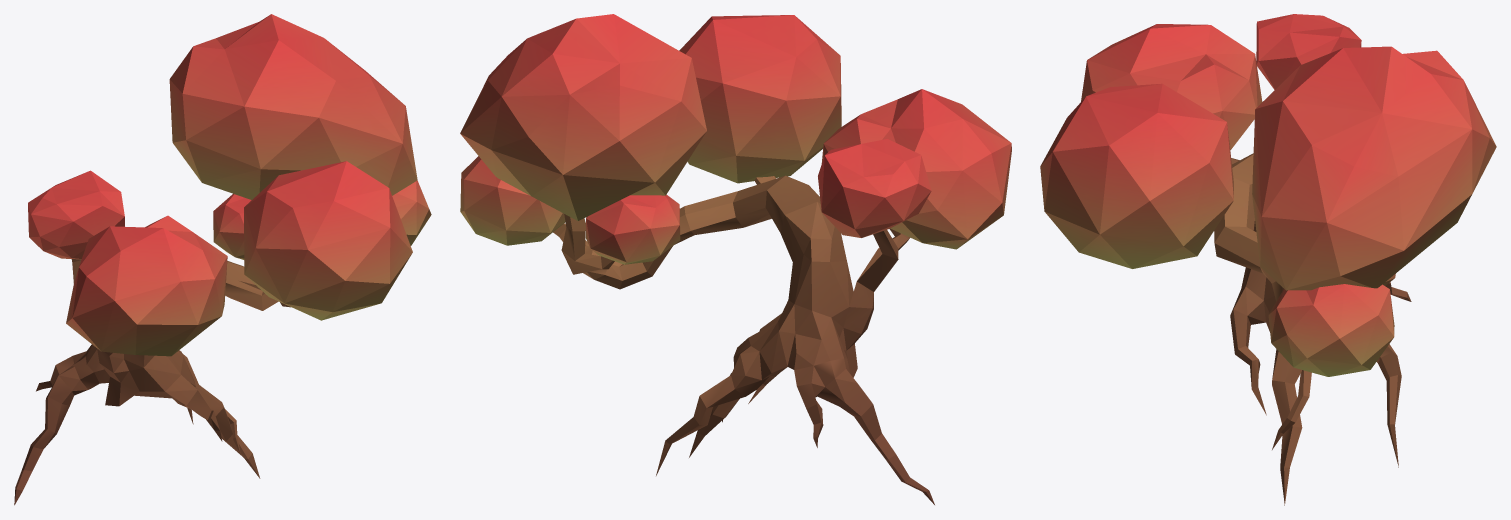
Rendered from ZLP_Plant_D_11.FBX.
3 renders of one model, left to right at view 1: azimuth 30°, elevation 25°; view 2: azimuth 150°, elevation 25°; view 3: azimuth 270°, elevation 25°, orthographic. The views are drawn at different scales.
Parts seen in each view (by area): view 1: ZLP_Plant_D_11; view 2: ZLP_Plant_D_11; view 3: ZLP_Plant_D_11.
Part boxes in pixels (x1=…): ZLP_Plant_D_11: x1=14, y1=14, x2=431, y2=505; ZLP_Plant_D_11: x1=460, y1=14, x2=1011, y2=504; ZLP_Plant_D_11: x1=1040, y1=14, x2=1496, y2=505.
Size of the model in its own units: 487 by 465 by 391.
